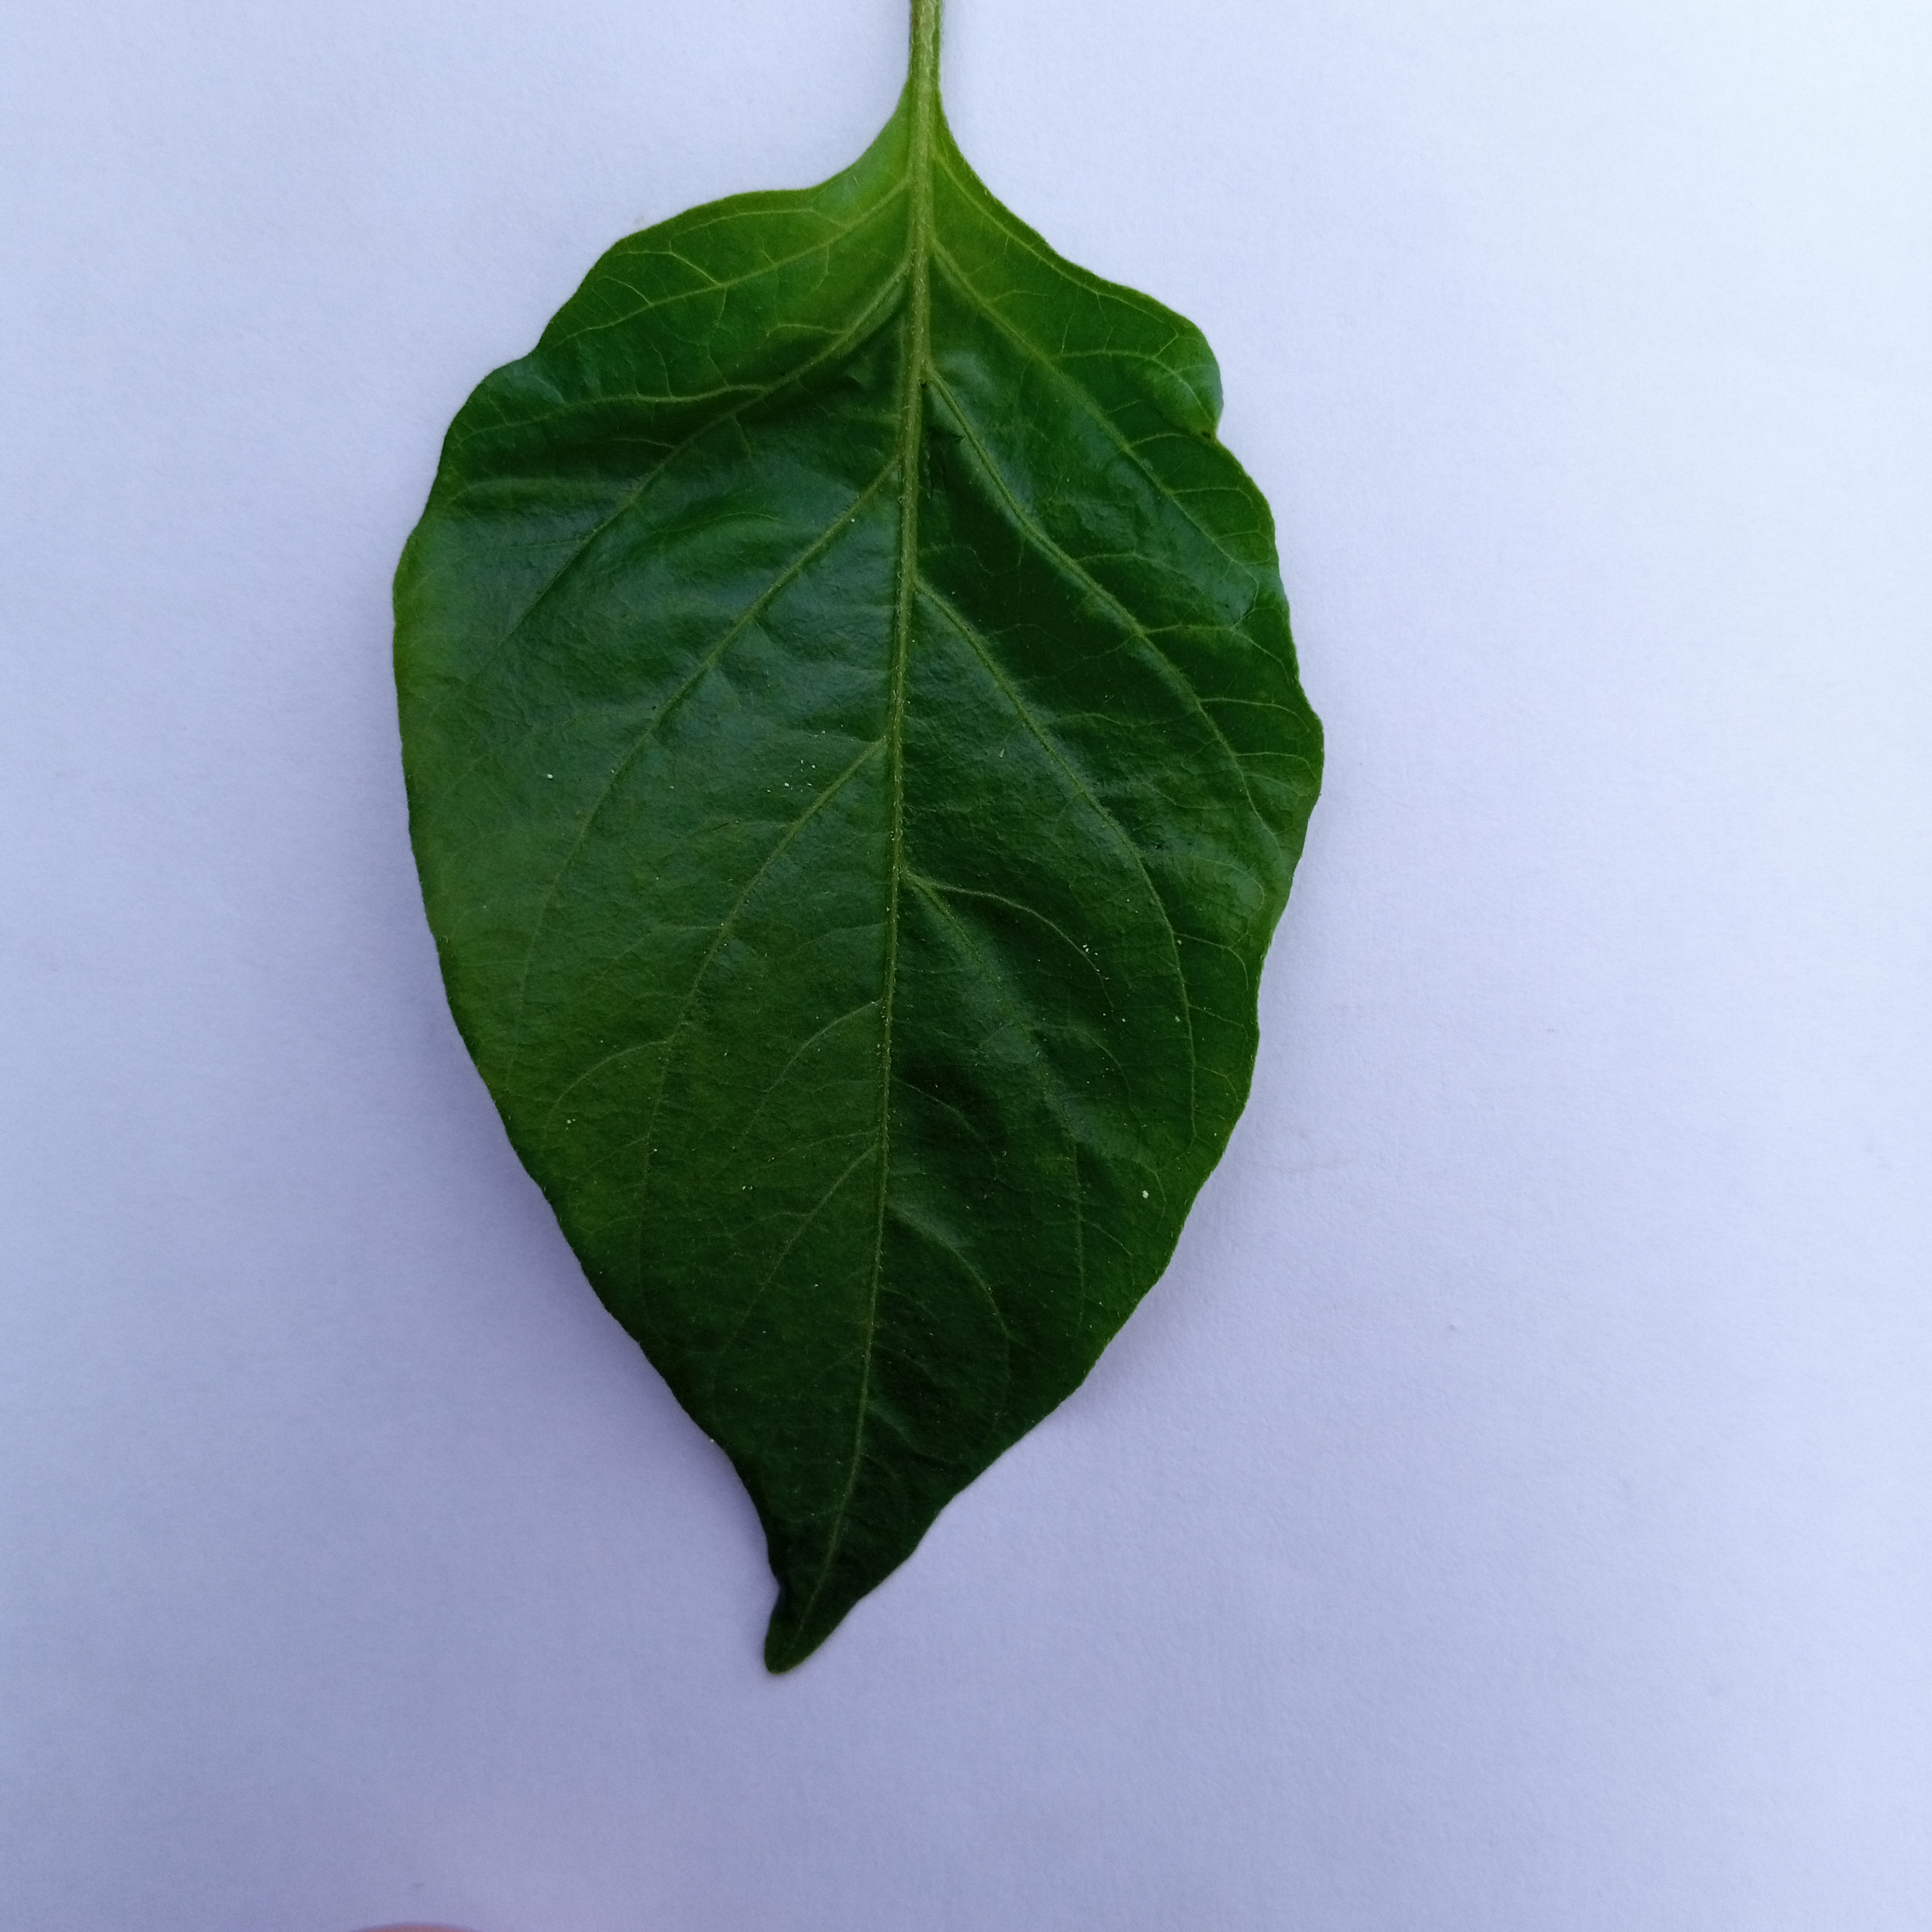Leaf: (292, 83, 1353, 1686)
